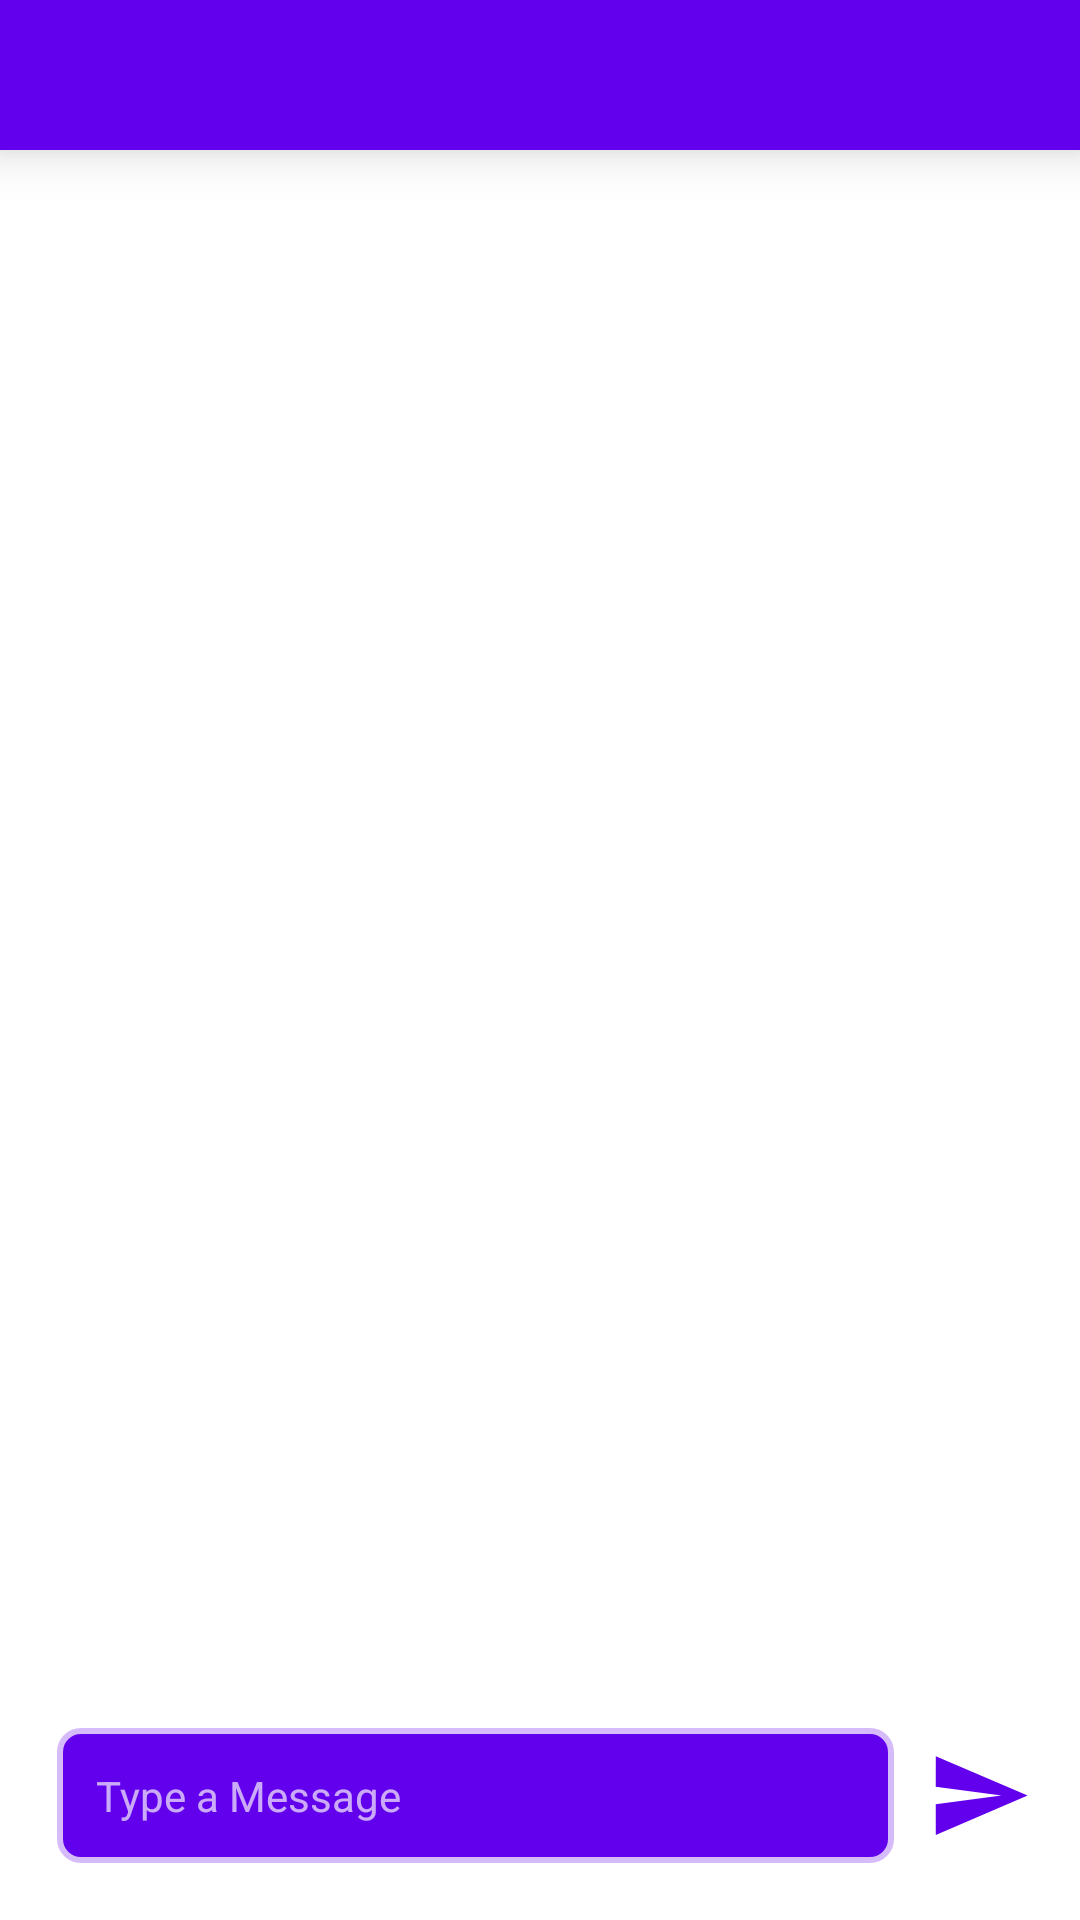

Where icons sit on this 1080x1920 app screen, as rect(x1, y1, x2, y2):
send button: rect(935, 1756, 1028, 1835)
